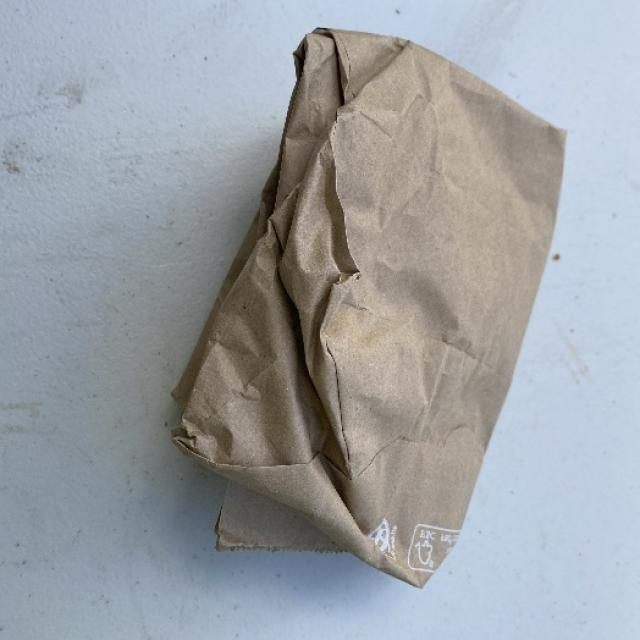inorganic: (170, 42, 564, 614)
